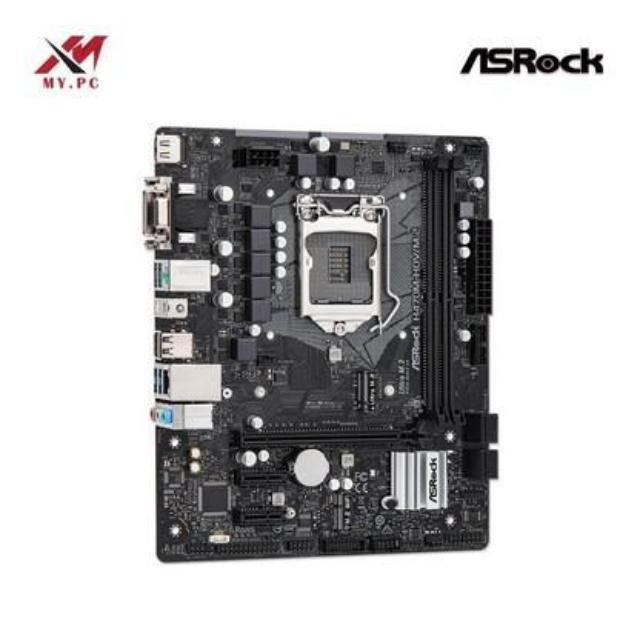Mainboard: (132, 119, 500, 564)
